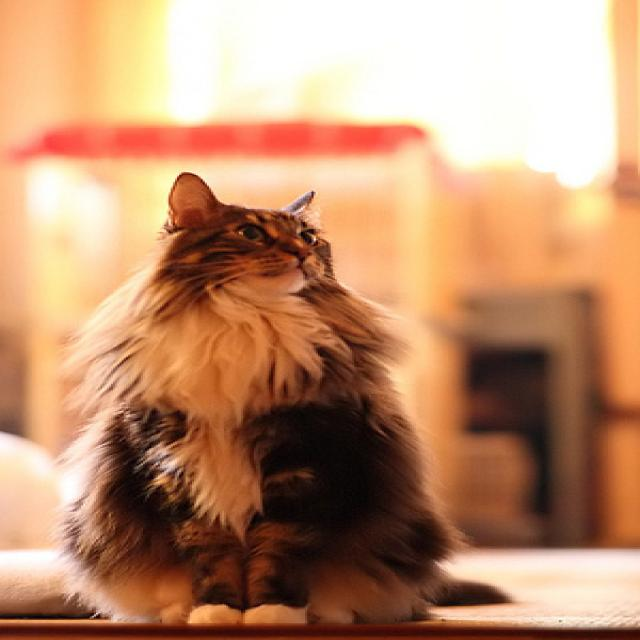Maine Coon: (52, 162, 514, 632)
